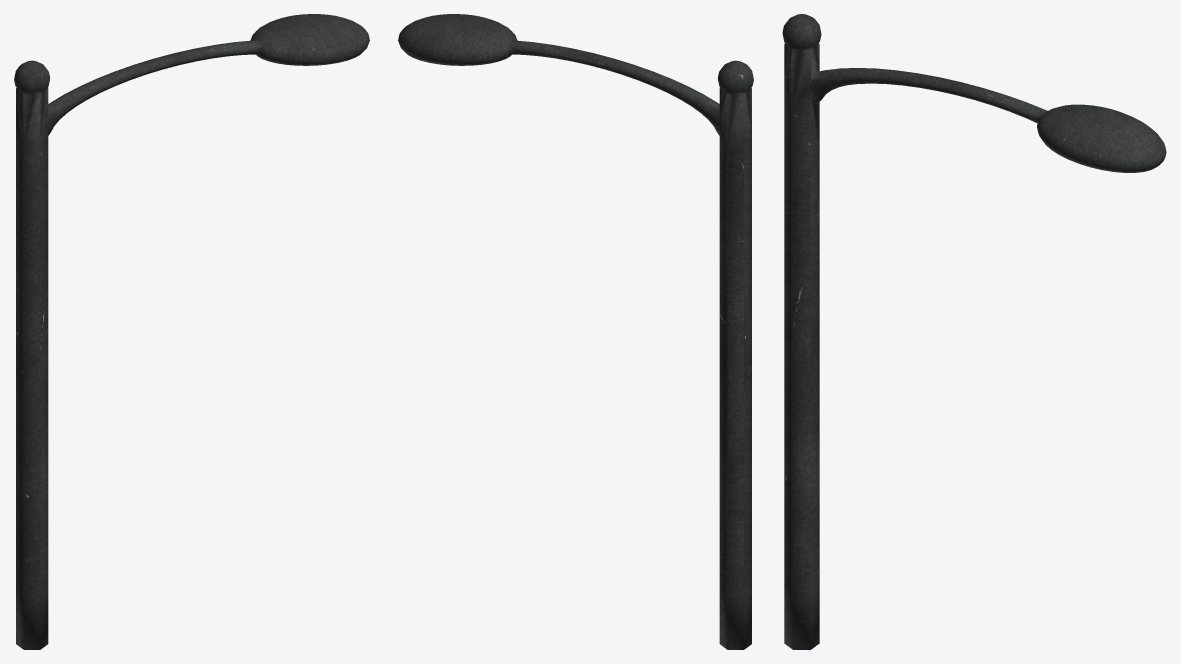
File: lamp.obj
3 renders of one model, left to right at view 1: azimuth 30°, elevation 25°; view 2: azimuth 150°, elevation 25°; view 3: azimuth 330°, elevation 25°, orthographic. The views are drawn at different scales.
Visible parts, largest first — view 1: Pole_Cylinder; view 2: Pole_Cylinder; view 3: Pole_Cylinder.
Part boxes in pixels (x1,y1,x2,y2): Pole_Cylinder: [14, 14, 369, 649]; Pole_Cylinder: [398, 14, 753, 649]; Pole_Cylinder: [782, 14, 1166, 649].
Size of the model in its own units: 1.83 by 2.92 by 0.4016.
